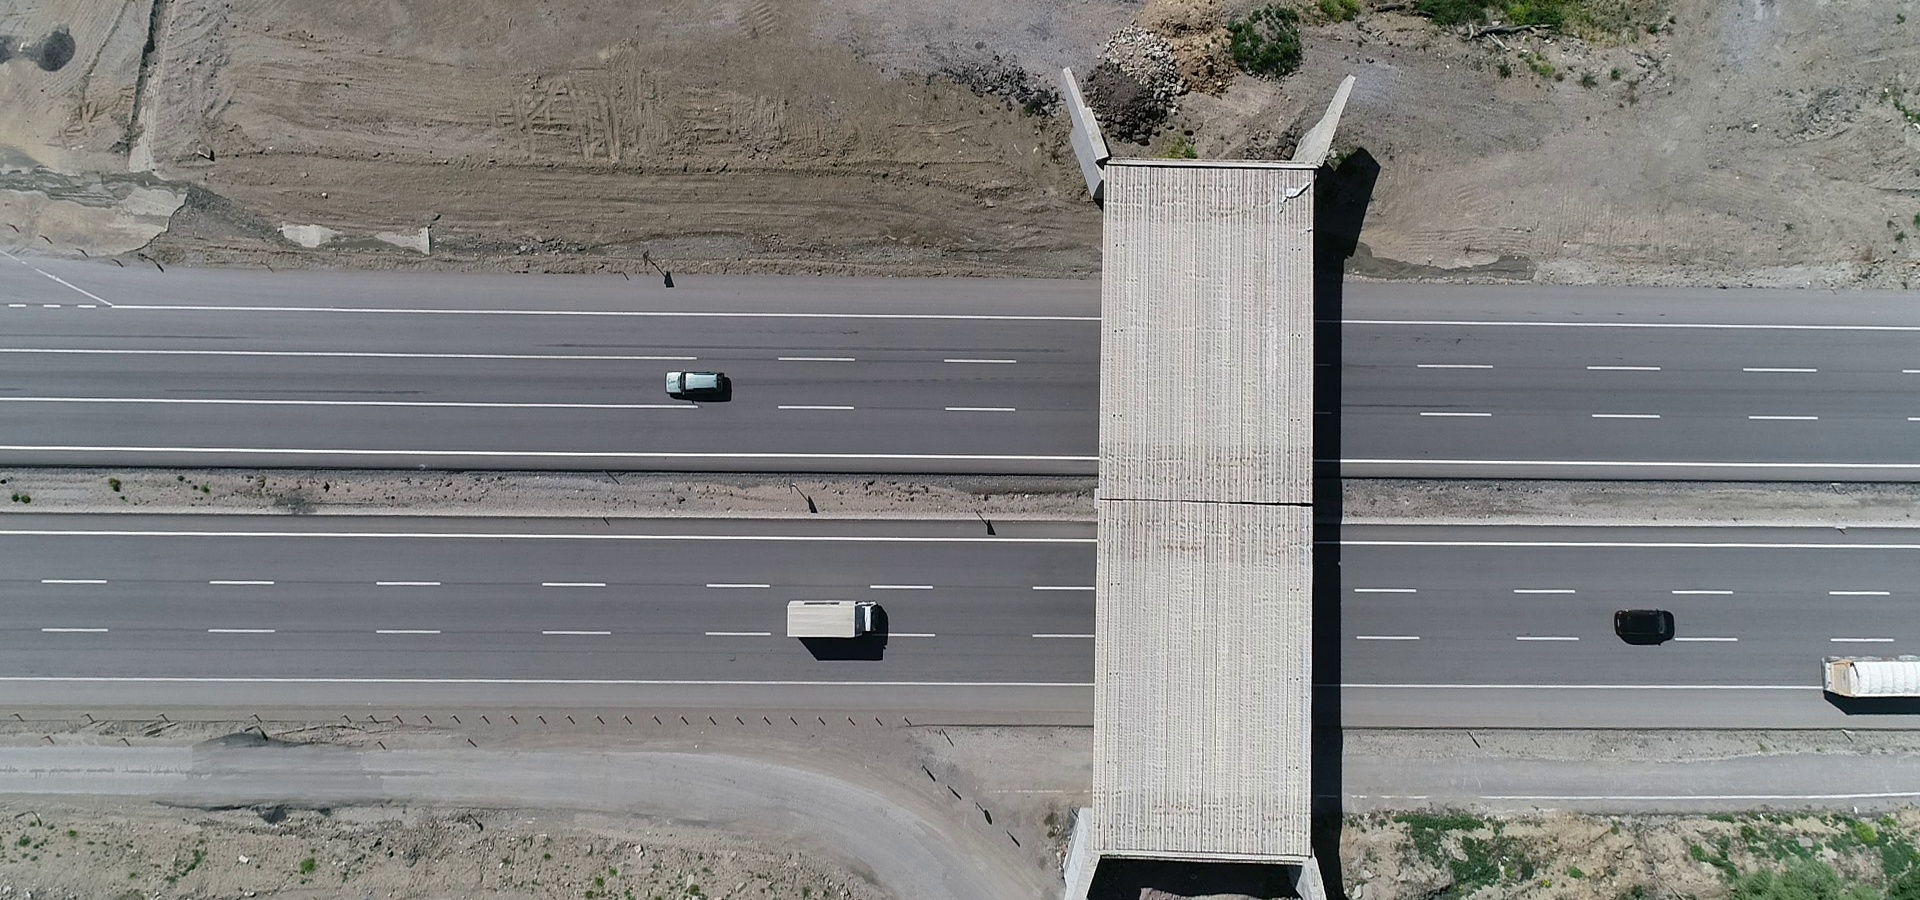arac: (1812, 644, 1919, 710), (782, 594, 891, 642), (1607, 606, 1682, 644), (655, 367, 737, 396)
